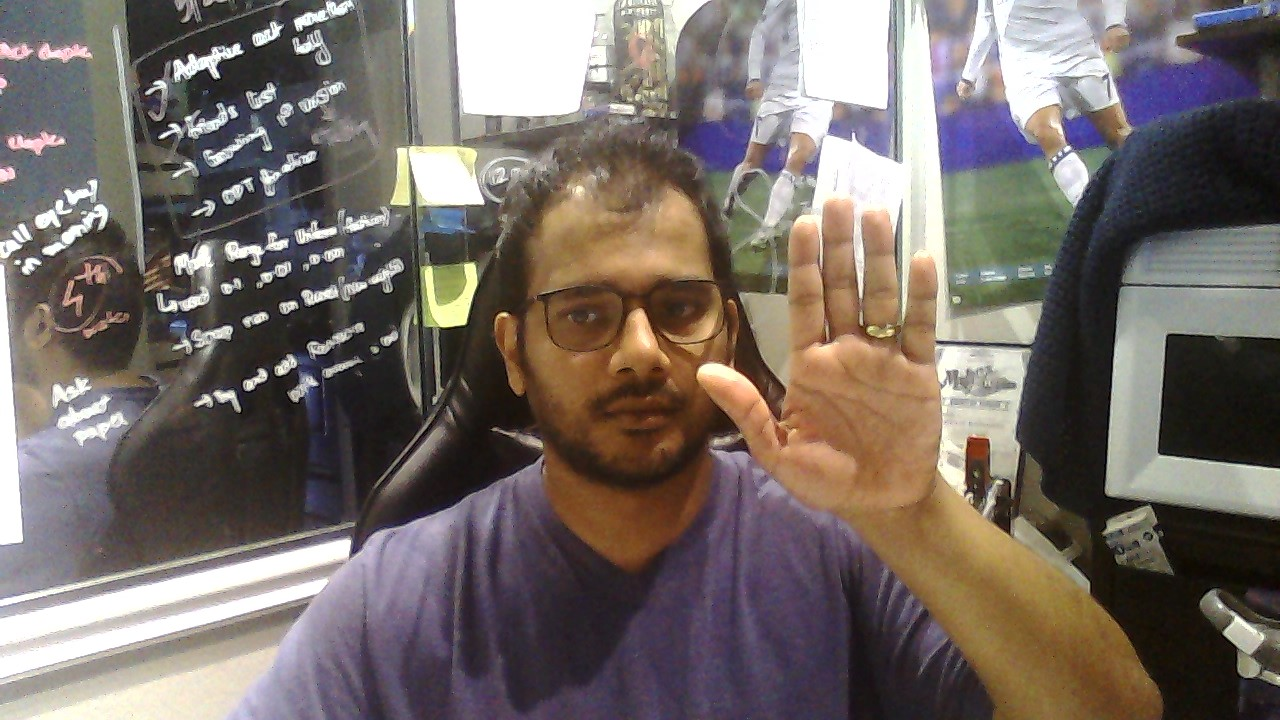Hello: (696, 195, 943, 510)
